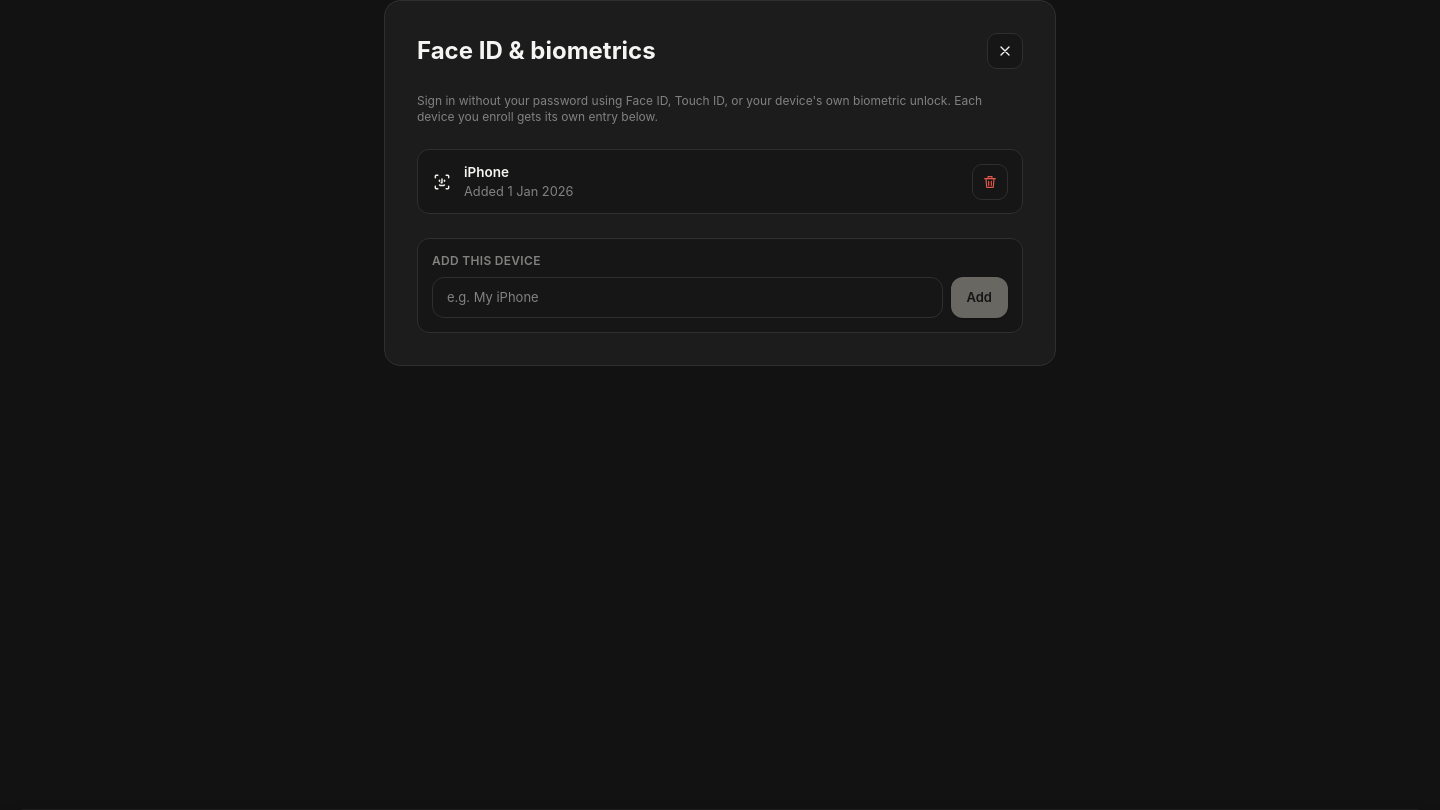
Test: SettingsPasskeysPage › enrolls a new device: begin -> browser ceremony -> finish, then clears the name field and relists
The width and height of the screenshot is (1440, 810).
Expected: the text "iPhone" is shown, top-left (464, 164), bottom-right (509, 180)
In the field with placeholder "e.g. My iPhone": point(687, 298) top-left (432, 277), bottom-right (942, 318), type "My iPad"
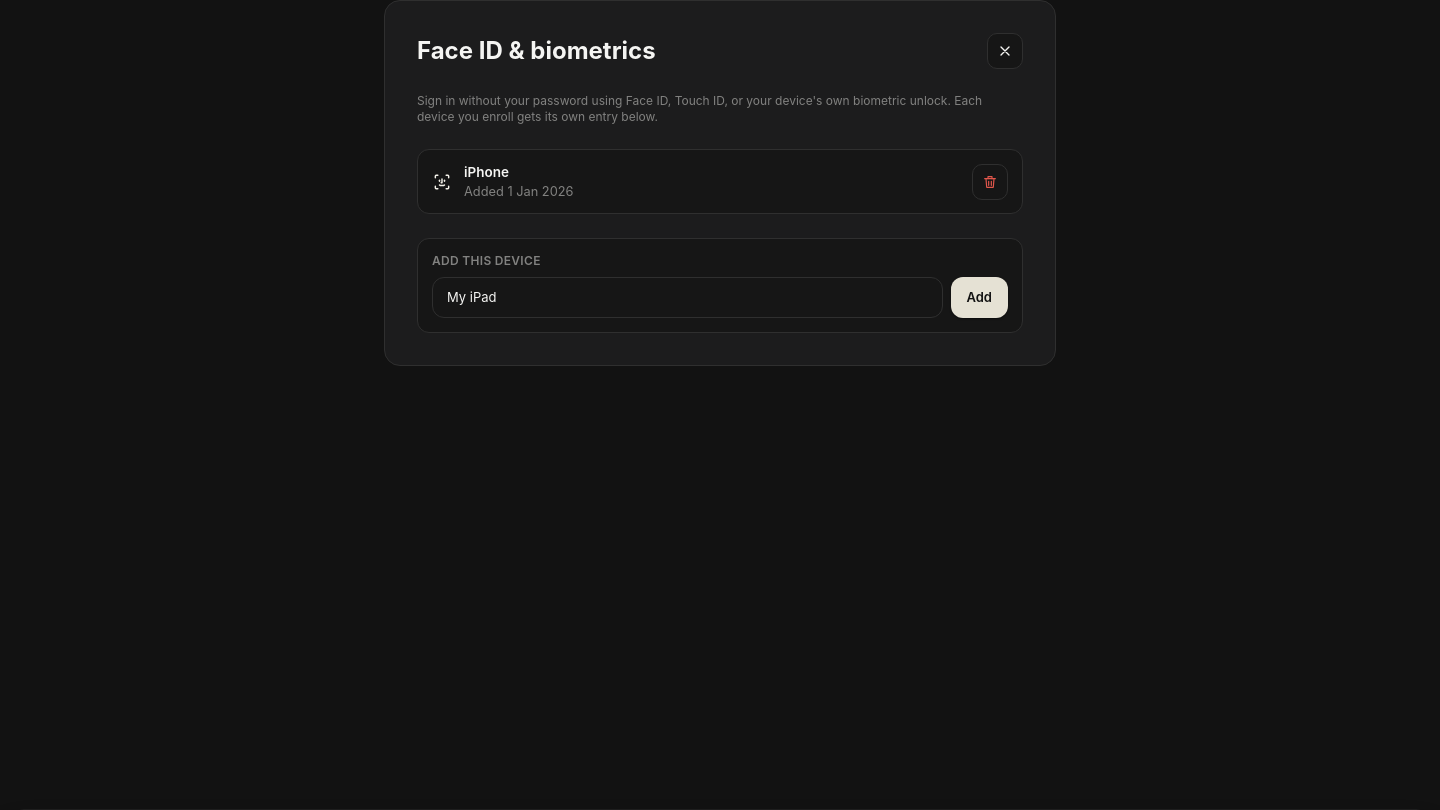
Click the button "Add": point(979, 298) top-left (950, 277), bottom-right (1008, 318)
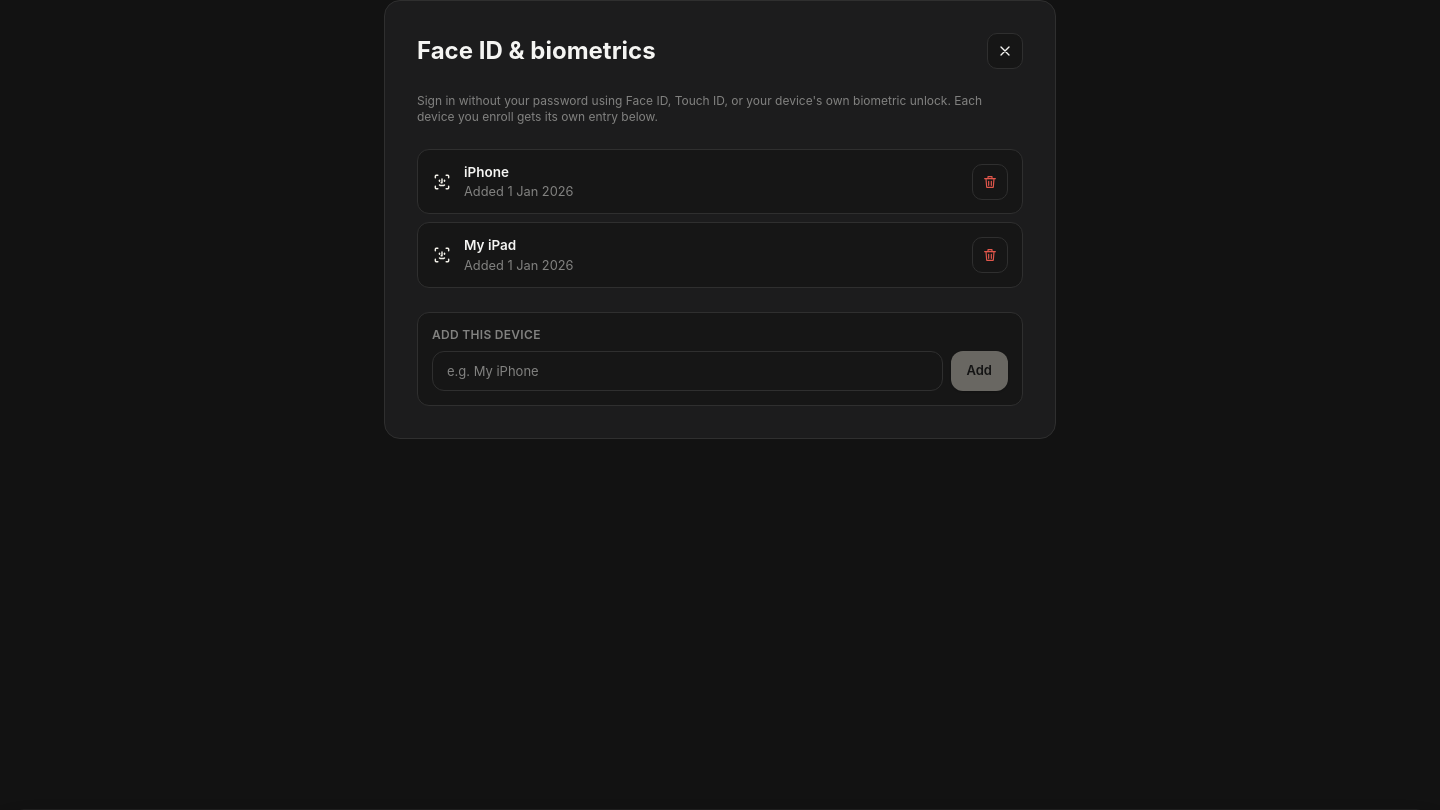
Result: the field with placeholder "e.g. My iPhone" is empty at top-left (432, 351), bottom-right (942, 392)
Result: the text "My iPad" is shown at top-left (464, 237), bottom-right (516, 253)
